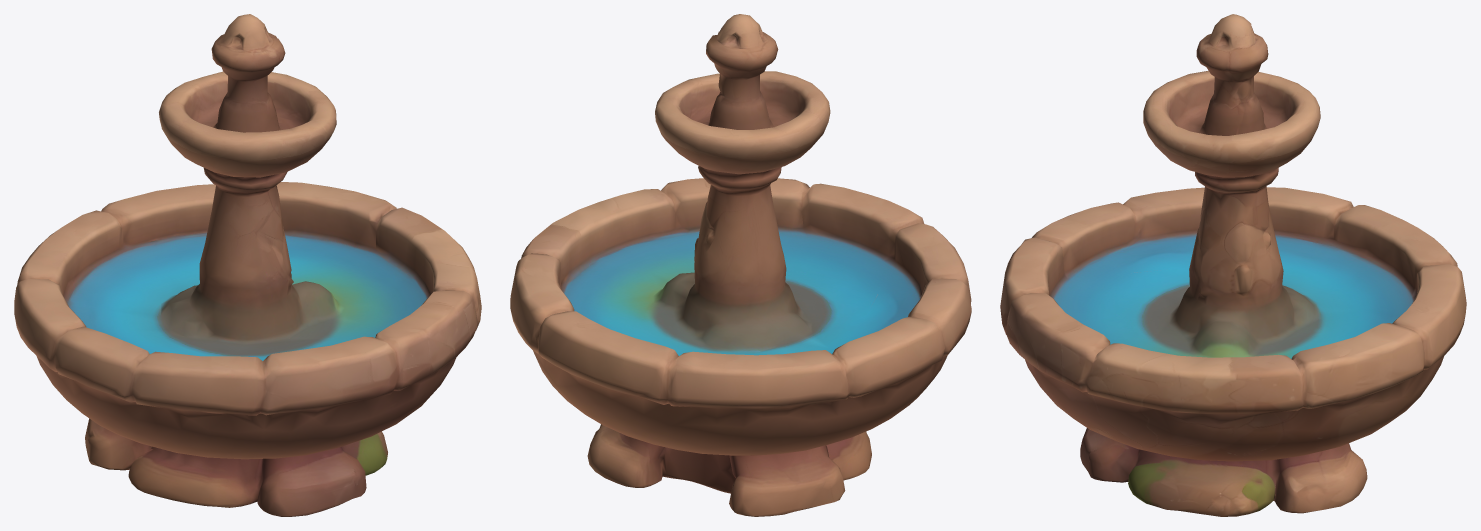
File: fountain.glb
The picture shows the model from 3 angles, left to right: view 1: azimuth 30°, elevation 25°; view 2: azimuth 150°, elevation 25°; view 3: azimuth 270°, elevation 25°; orthographic projection.
Visible parts, largest first — view 1: tripo_node_09b14faa-a0c6-43c5-a879-2814eda6afd5; view 2: tripo_node_09b14faa-a0c6-43c5-a879-2814eda6afd5; view 3: tripo_node_09b14faa-a0c6-43c5-a879-2814eda6afd5.
Boxes of the visible parts, x1,y1,x2,y2 form: tripo_node_09b14faa-a0c6-43c5-a879-2814eda6afd5: (14, 14, 481, 516); tripo_node_09b14faa-a0c6-43c5-a879-2814eda6afd5: (510, 14, 971, 516); tripo_node_09b14faa-a0c6-43c5-a879-2814eda6afd5: (1000, 14, 1466, 516).
Bounding box in the file's own units: 0.959 × 0.998 × 0.9551.
Materials: 1 (1 with a texture image).
